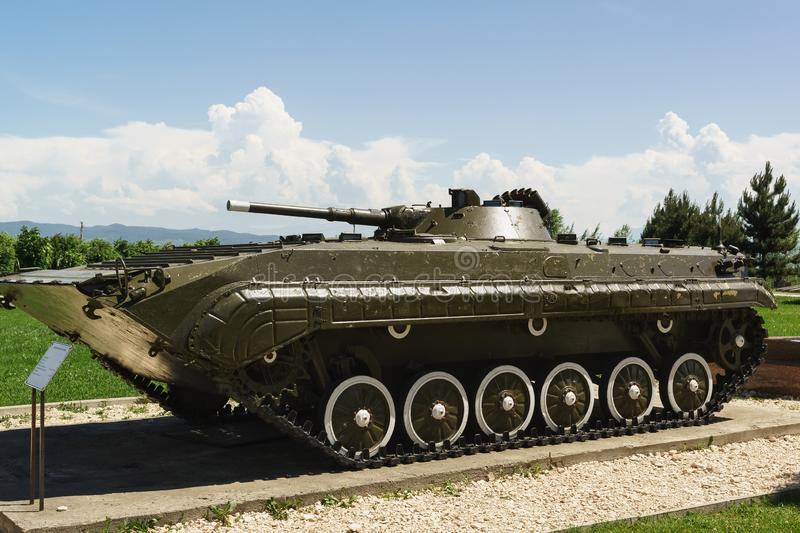bmp1: (6, 194, 769, 454)
